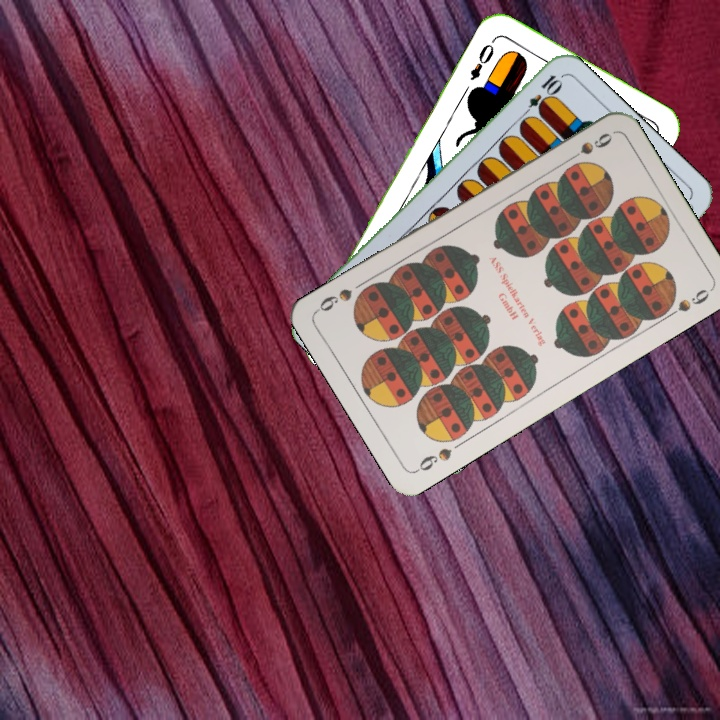E10: (517, 70, 564, 122)
EO: (466, 39, 497, 83)
S9: (562, 128, 615, 166), (411, 443, 455, 475)
